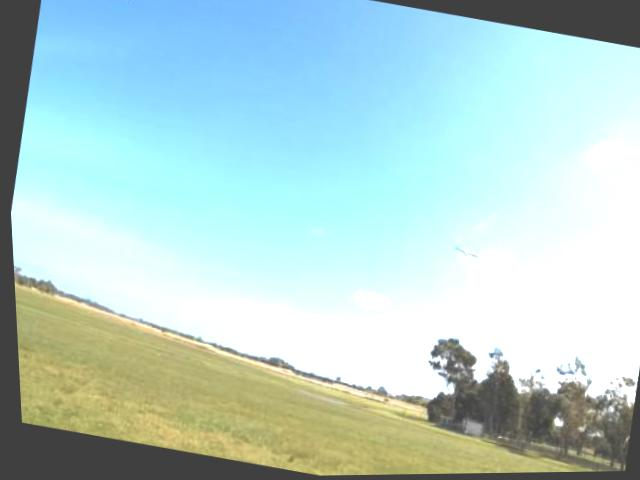uav: (446, 241, 483, 268)
